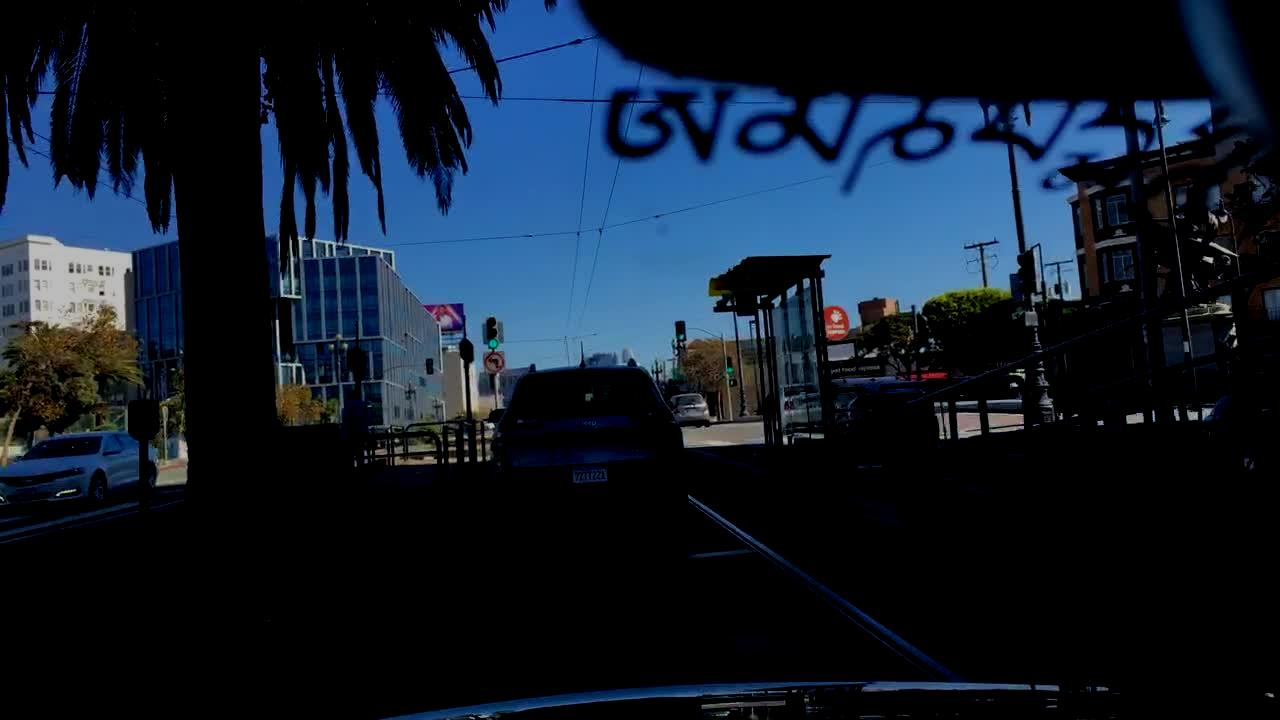jeep: (568, 417, 604, 433)
